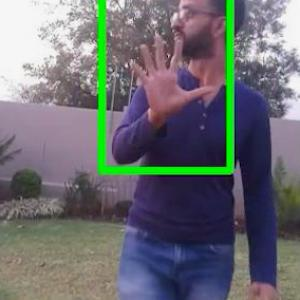follow_hand: (121, 28, 218, 120)
